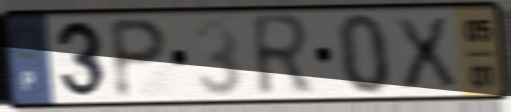0: (330, 11, 396, 98)
3: (54, 17, 112, 102), (192, 16, 244, 98)
P: (107, 15, 172, 103)
R: (247, 11, 316, 102)
X: (389, 14, 463, 92)
